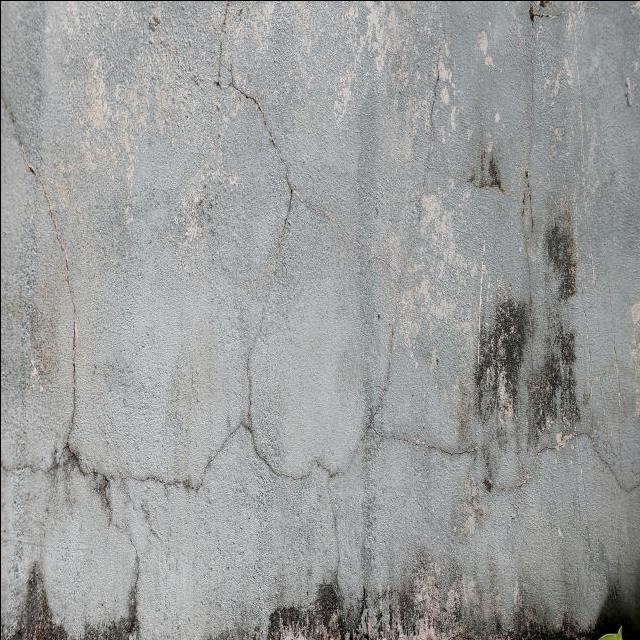SurfaceCrack: (151, 0, 343, 636)
